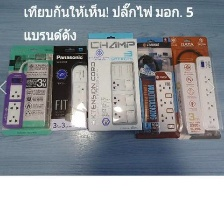book: (162, 32, 224, 142), (84, 29, 144, 133), (127, 34, 183, 141), (0, 43, 54, 137), (48, 42, 91, 133)
three_eye_plug: (191, 53, 221, 133), (105, 59, 140, 127), (152, 69, 178, 135), (0, 70, 27, 130), (67, 62, 88, 129)
